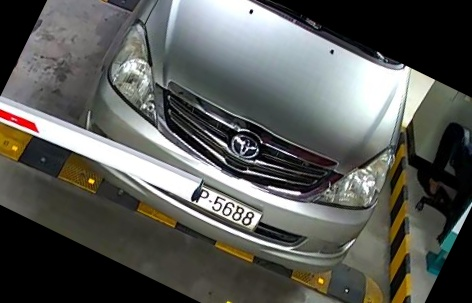plate: (186, 172, 267, 233)
